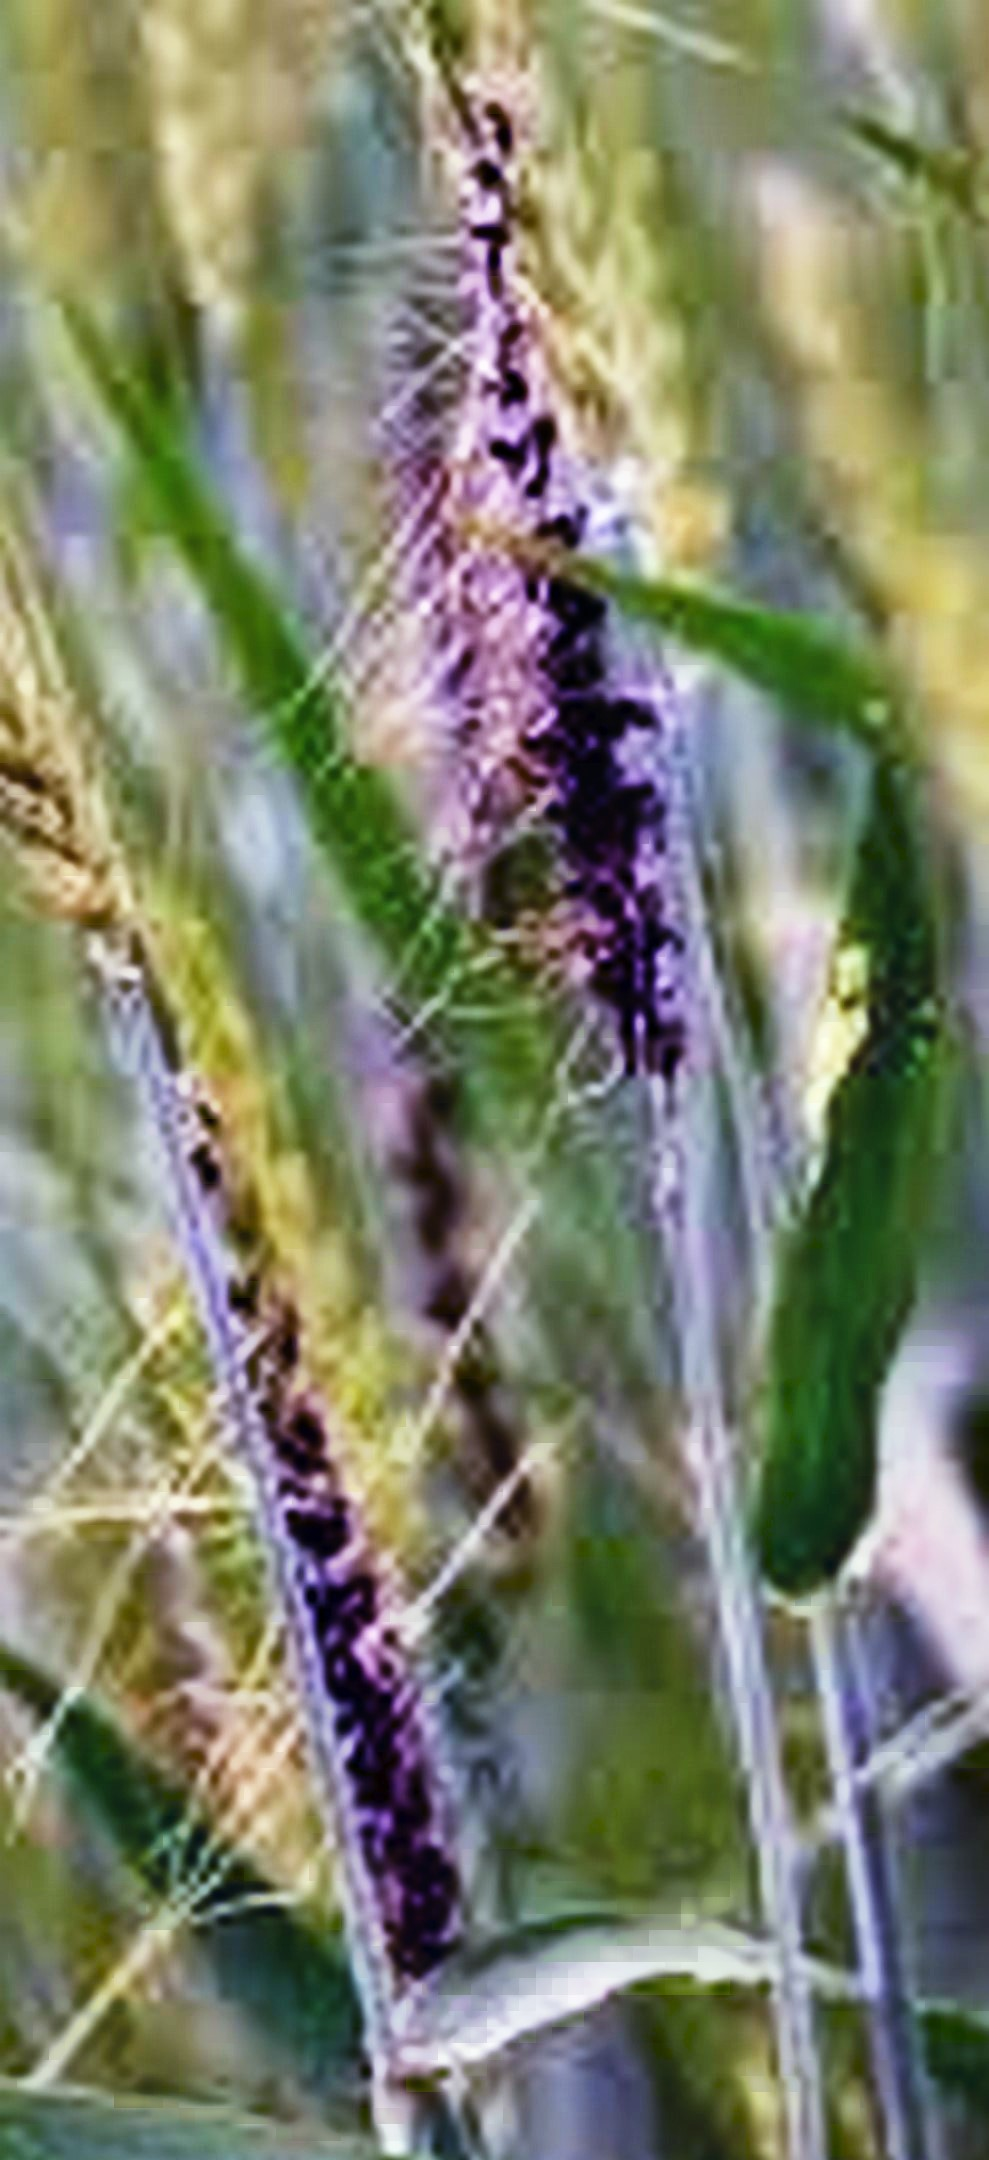Wheat Loose Smut: (449, 142, 725, 1063), (231, 1333, 497, 1962)
